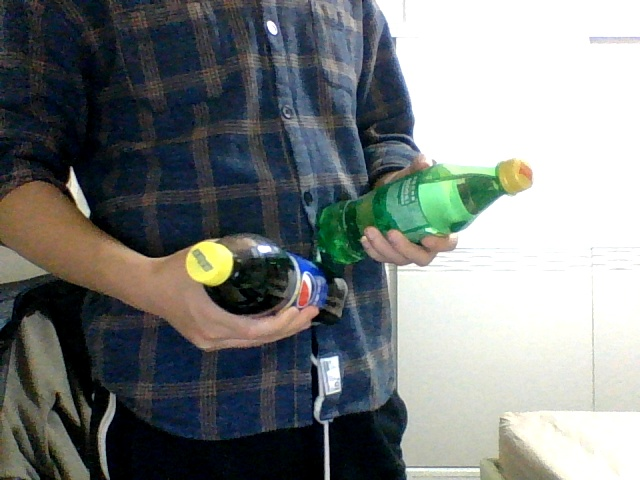Cola: (186, 235, 348, 325)
Sprite: (318, 160, 533, 264)
